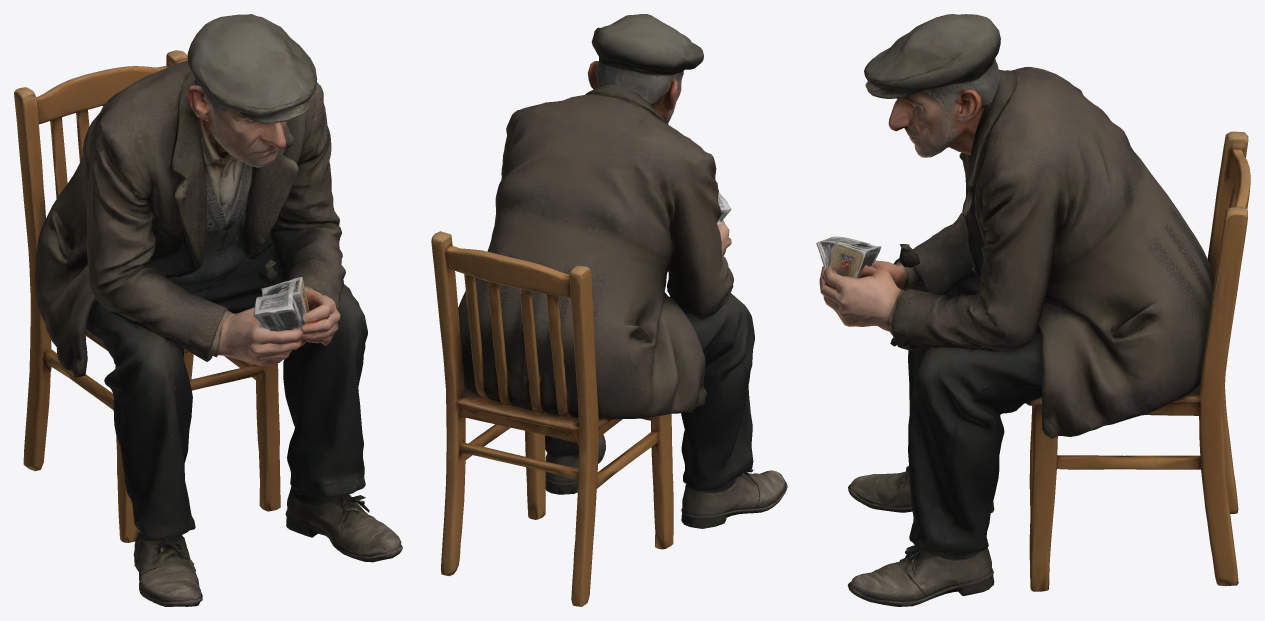
Rendered from jano.glb.
The picture shows the model from 3 angles, left to right: view 1: azimuth 30°, elevation 25°; view 2: azimuth 150°, elevation 25°; view 3: azimuth 270°, elevation 25°; orthographic projection. The views are drawn at different scales.
Parts seen in each view (by area): view 1: tripo_node_b5faa342-beaf-4a73-bd53-1a53d2376c70; view 2: tripo_node_b5faa342-beaf-4a73-bd53-1a53d2376c70; view 3: tripo_node_b5faa342-beaf-4a73-bd53-1a53d2376c70.
Boxes of the visible parts, x1=… form: tripo_node_b5faa342-beaf-4a73-bd53-1a53d2376c70: x1=14, y1=14, x2=402, y2=606; tripo_node_b5faa342-beaf-4a73-bd53-1a53d2376c70: x1=431, y1=14, x2=787, y2=606; tripo_node_b5faa342-beaf-4a73-bd53-1a53d2376c70: x1=816, y1=14, x2=1250, y2=606.
Size of the model in its own units: 0.6256 by 1.28 by 0.9414.
Materials: 1 (1 with a texture image).
